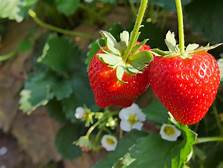Fresa: (145, 44, 223, 129), (85, 34, 156, 112)
